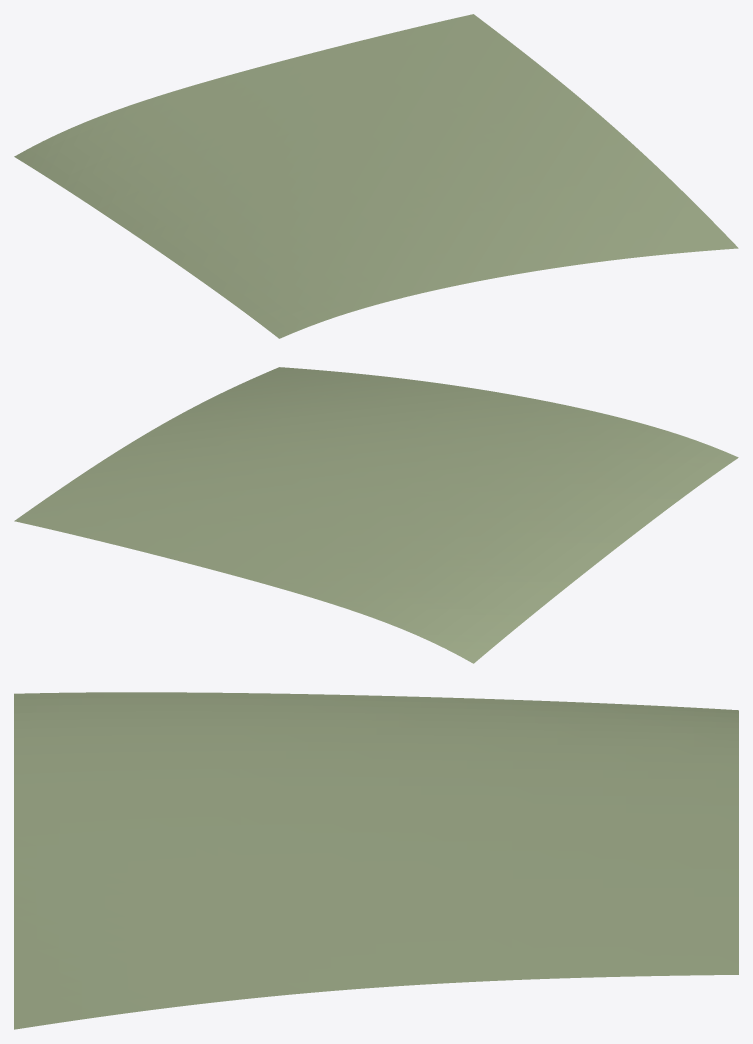
The model's file is expanse-12-18.glb.
The picture shows the model from 3 angles, top to bottom: view 1: azimuth 30°, elevation 25°; view 2: azimuth 150°, elevation 25°; view 3: azimuth 270°, elevation 25°; orthographic projection. The views are drawn at different scales.
Visible parts, largest first — view 1: expanse-12-18; view 2: expanse-12-18; view 3: expanse-12-18.
Boxes of the visible parts, x1,y1,x2,y2 form: expanse-12-18: [14, 14, 738, 338]; expanse-12-18: [14, 367, 738, 663]; expanse-12-18: [14, 692, 738, 1029].
Size of the model in its own units: 256 by 21.85 by 256.
